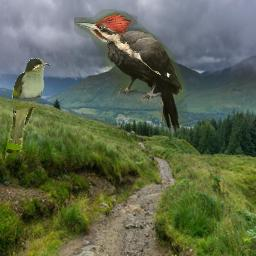Cuckoo: (5, 58, 51, 160)
Woodpecker: (74, 9, 191, 135)
